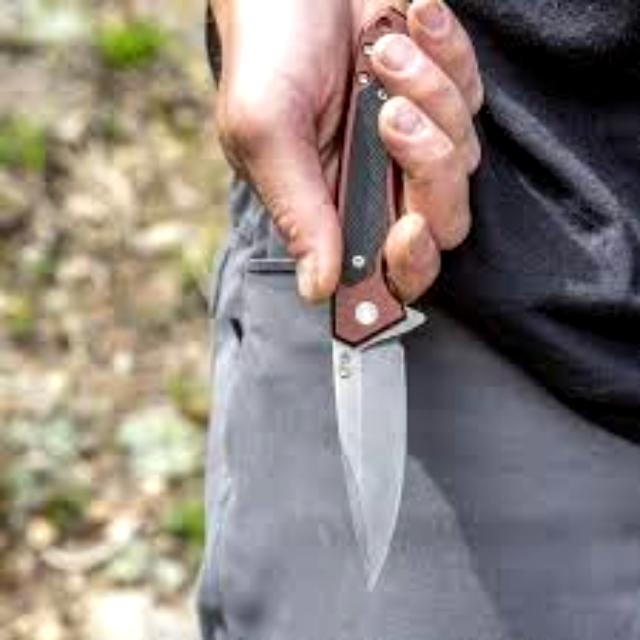pocket-knife: (297, 11, 487, 595)
